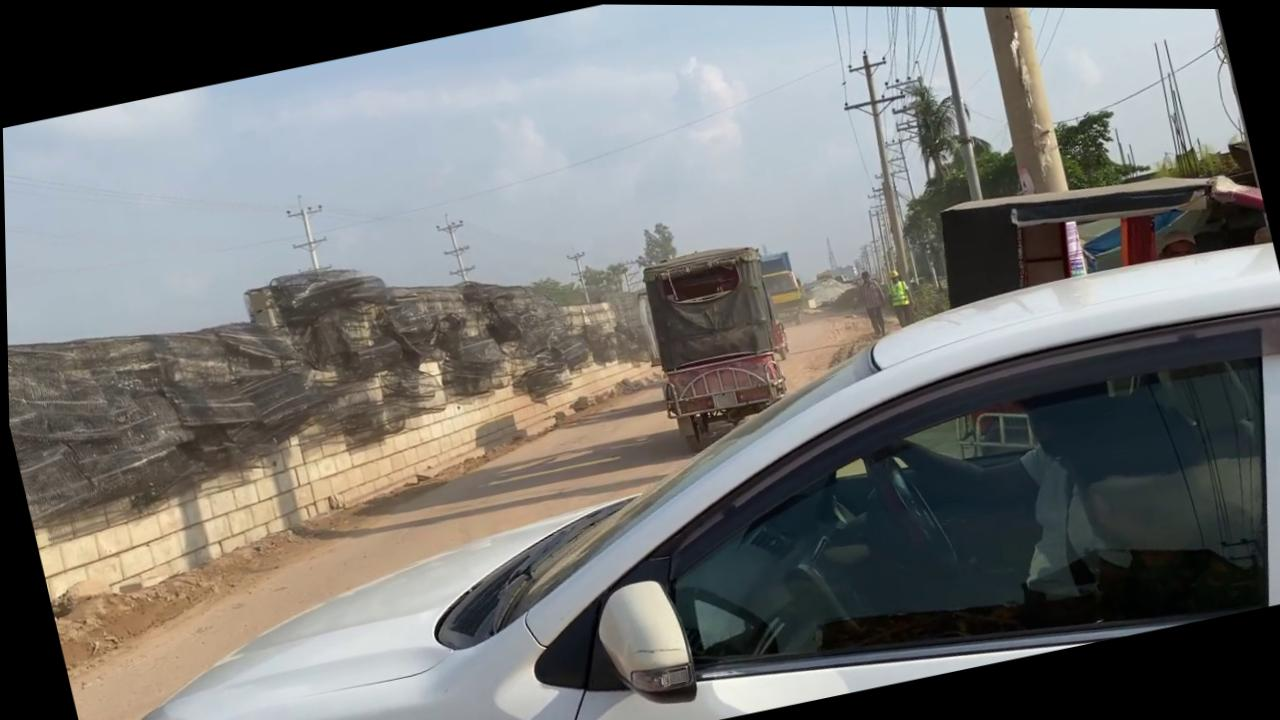Muddy road: (15, 291, 977, 720)
Pole: (962, 6, 1070, 198)
Traffic-sign: (882, 64, 980, 189)
Tree: (898, 137, 1280, 471), (627, 235, 804, 457), (755, 247, 808, 328)
Upstairs: (4, 221, 687, 626)
